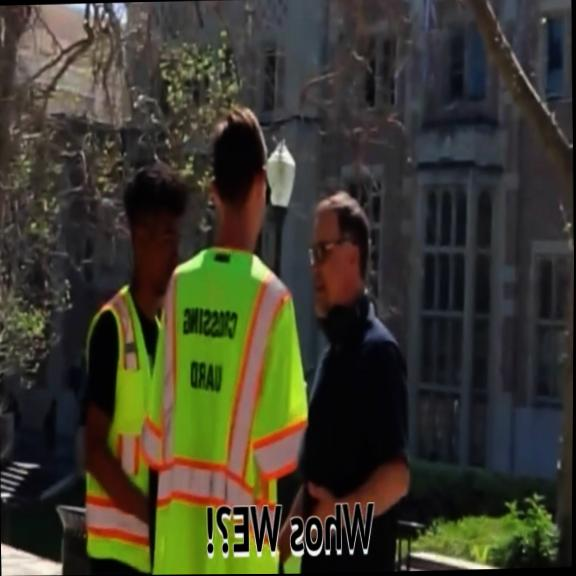safety_vest: (146, 243, 313, 575), (79, 280, 154, 575)
